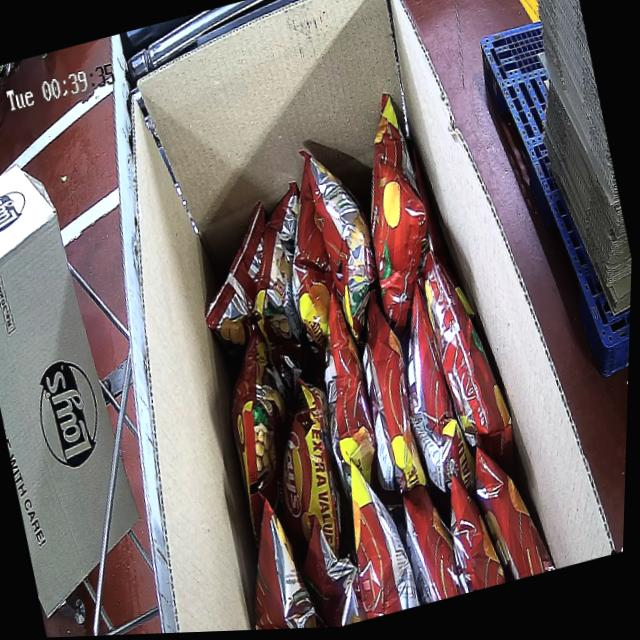MASALA: (141, 70, 572, 634)
